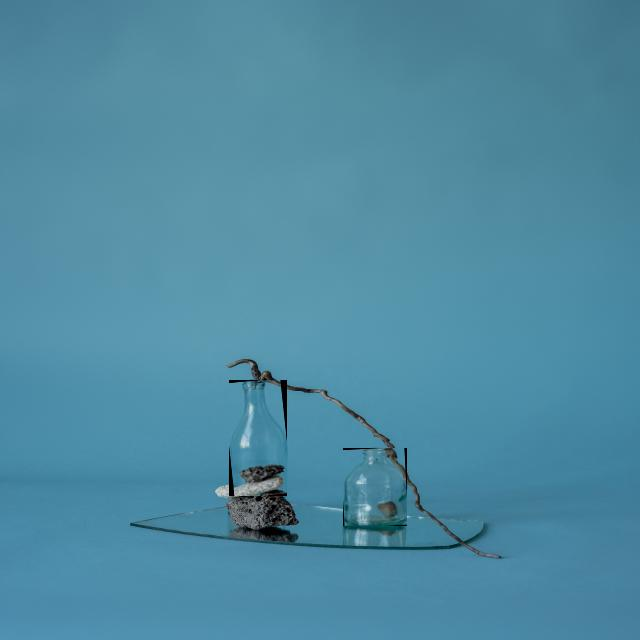Bottle: (228, 380, 286, 496), (343, 448, 405, 526)
